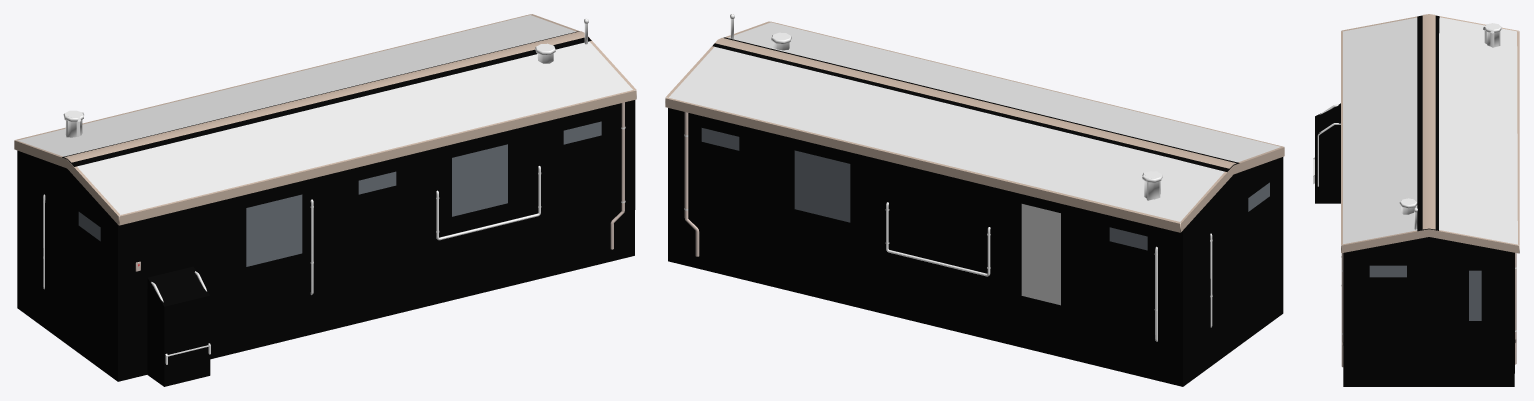
The model's file is office_mobile3.dae.
3 renders of one model, left to right at view 1: azimuth 30°, elevation 25°; view 2: azimuth 150°, elevation 25°; view 3: azimuth 270°, elevation 25°, orthographic. The views are drawn at different scales.
Parts seen in each view (by area): view 1: office_mobile3_Colmesh-1, office_mobile3_a500, office_mobile3_a100; view 2: office_mobile3_Colmesh-1, office_mobile3_a500, office_mobile3_a100; view 3: office_mobile3_a500, office_mobile3_Colmesh-1, office_mobile3_a100, office_mobile3_a250.
Part boxes in pixels (<box>): office_mobile3_Colmesh-1: <box>17,31,635,386</box>; office_mobile3_a500: <box>14,14,636,364</box>; office_mobile3_a100: <box>78,121,601,266</box>; office_mobile3_Colmesh-1: <box>668,37,1283,386</box>; office_mobile3_a500: <box>665,14,1284,341</box>; office_mobile3_a100: <box>701,128,1269,305</box>; office_mobile3_a500: <box>1313,14,1519,367</box>; office_mobile3_Colmesh-1: <box>1315,15,1514,386</box>; office_mobile3_a100: <box>1369,265,1481,320</box>; office_mobile3_a250: <box>1483,23,1502,47</box>.
Bounding box in the file's own units: 12.17 × 4.91 × 4.63.
